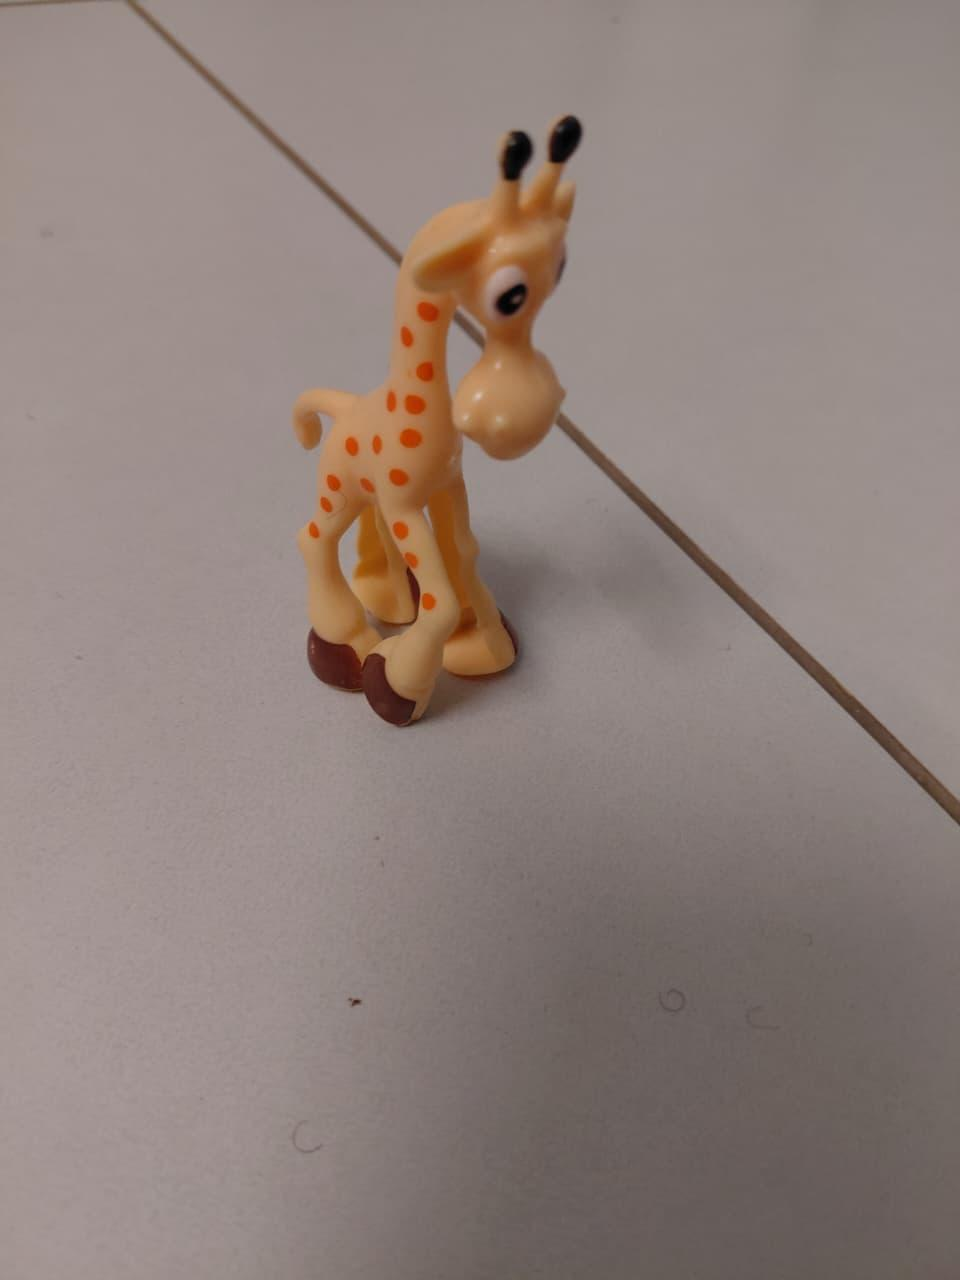giraffe: (200, 111, 754, 767)
